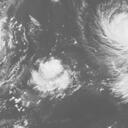cyclone: (27, 58, 78, 99), (95, 3, 127, 54)
